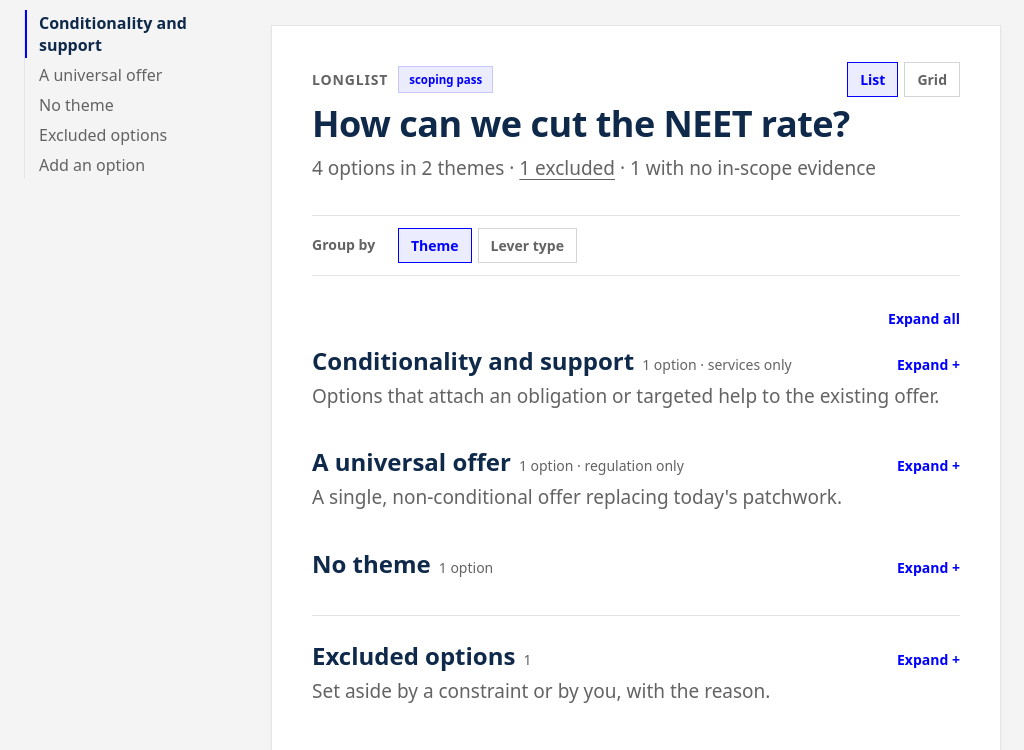
LonglistView › tags each row with its lever only, no mark and no ambition word, and names the theme's instruments
This screenshot has width=1024, height=750.
Expected: the button "A universal offer1 option · regulation only Expand +" is shown, left=312, top=446, right=960, bottom=477
Step 1. Click the button "Expand all" → coordinates (924, 318), box left=888, top=308, right=960, bottom=328
(page scrolled)
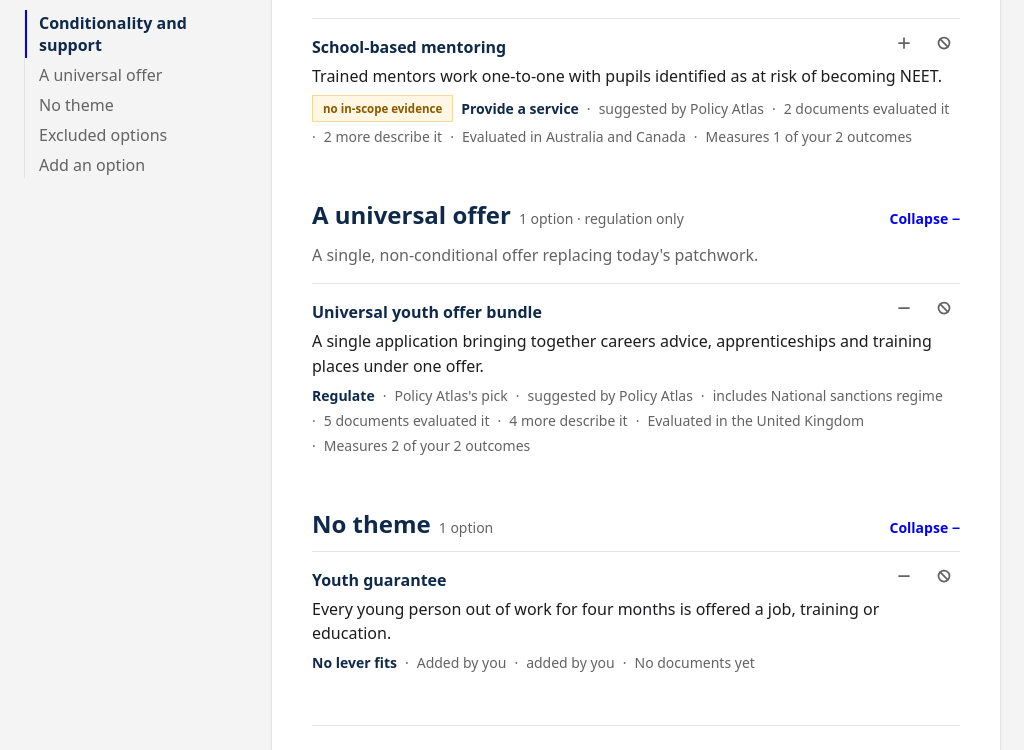
Expected: the text "Regulate" is shown, left=312, top=385, right=375, bottom=406
